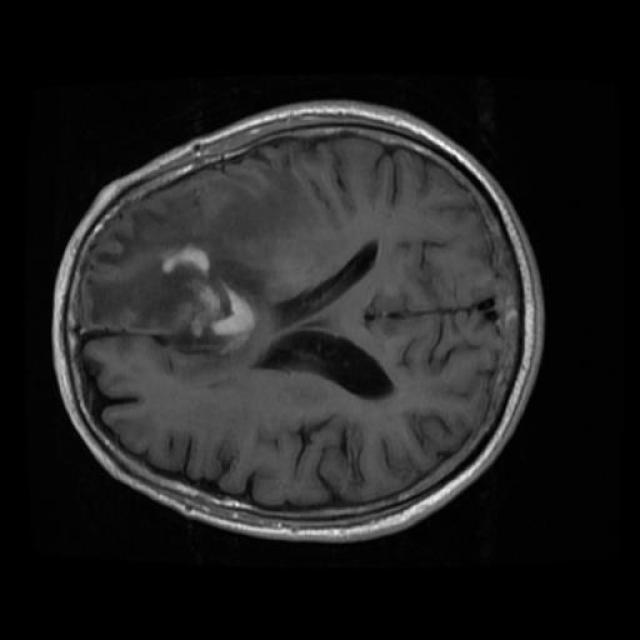Glioma: (118, 246, 256, 353)
